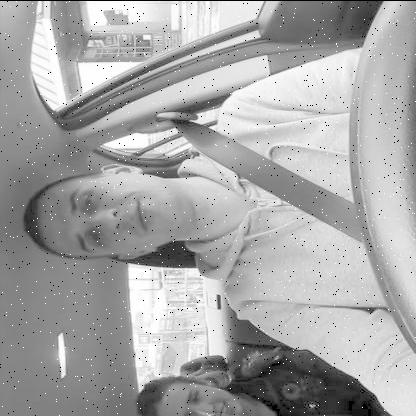seatbelt: (23, 102, 384, 272)
